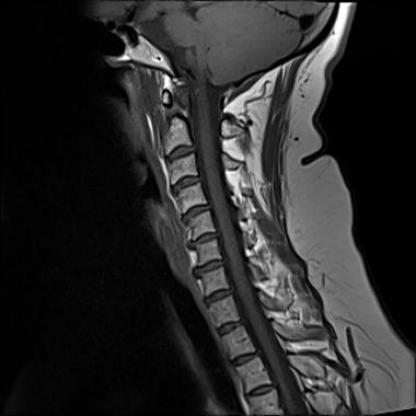Disc Bulgerotation: (185, 232, 221, 247)
